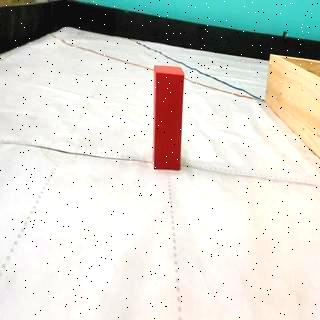redbox: (152, 64, 185, 170)
